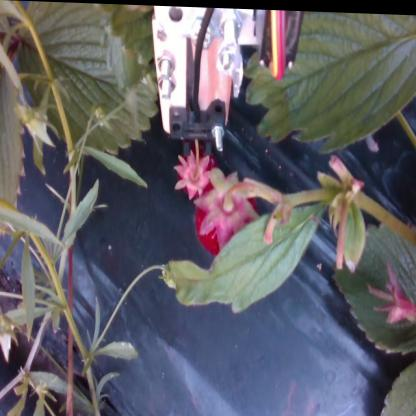ripe: (196, 174, 257, 250), (177, 147, 215, 193)
